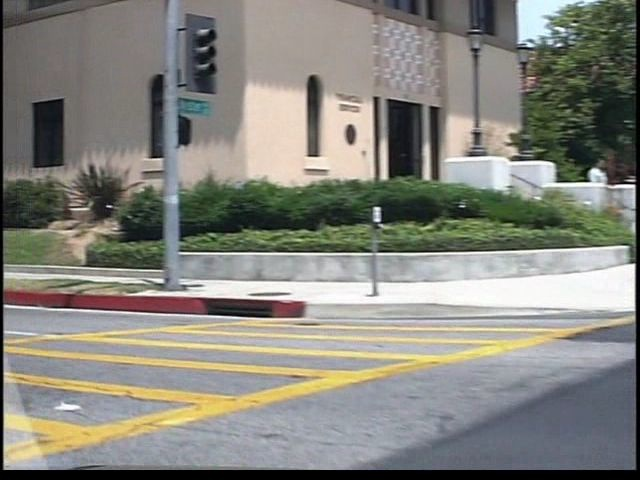person: (567, 151, 593, 228)
